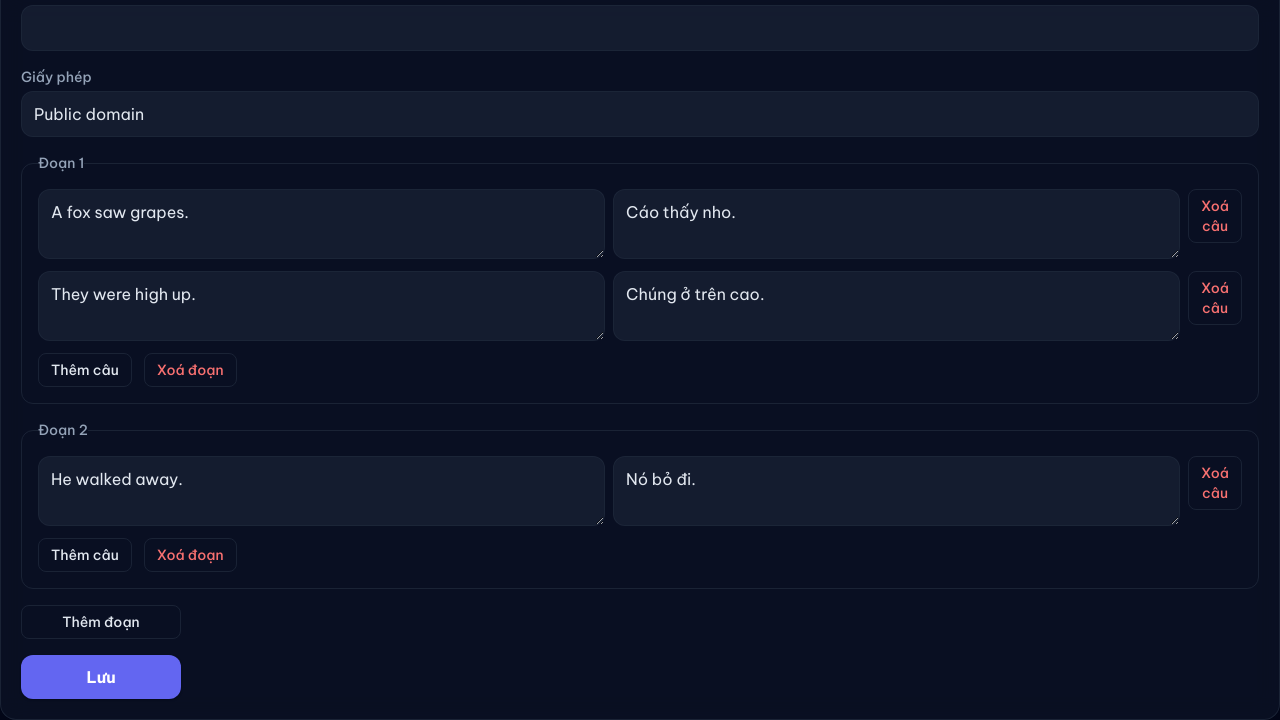
ReadingEditForm › thêm và xoá đoạn
The image size is (1280, 720).
(page scrolled)
What coordinates should you click on to do the following:
click the button "Thêm đoạn"
I would click on:
 (101, 622)
Its box is [21, 605, 181, 639].
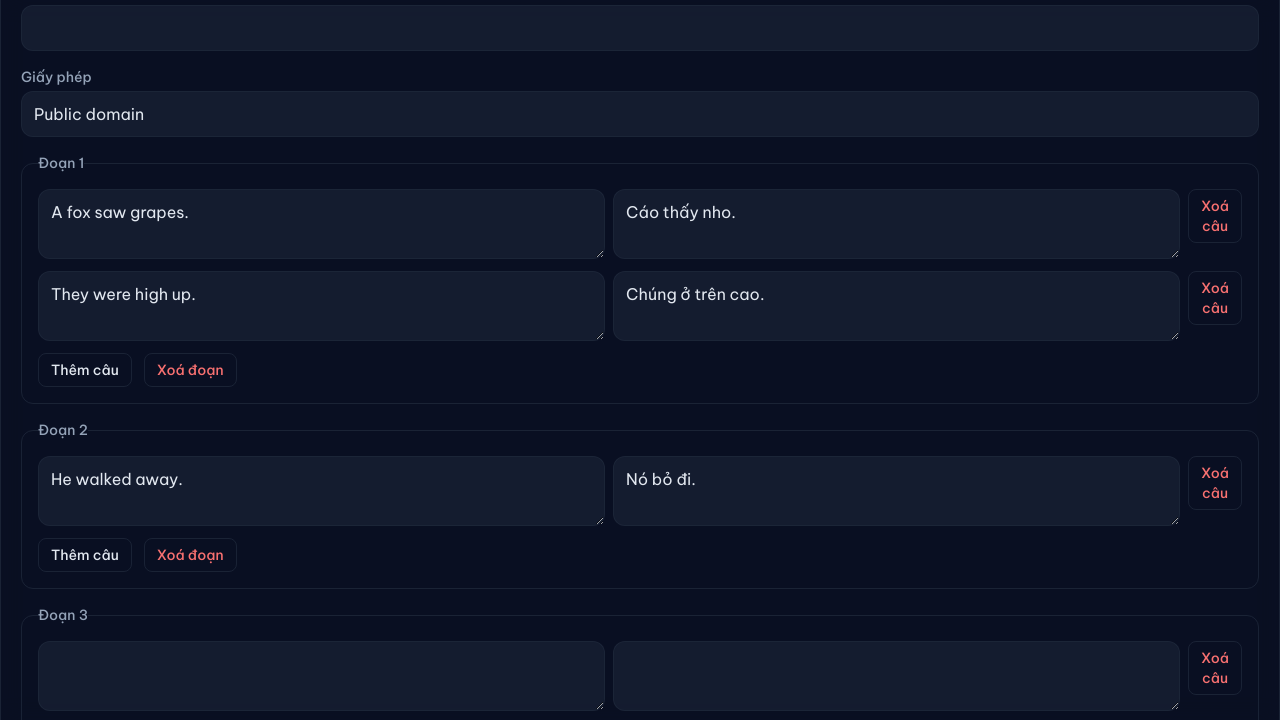
Expected: the text box named "Đoạn 3 câu 1 tiếng Anh" is empty, [38, 641, 605, 711]
What coordinates should you click on to do the following:
click the button with aria-label "Xoá đoạn 1"
I would click on:
 (190, 370)
Its box is [144, 353, 237, 387].
(page scrolled)
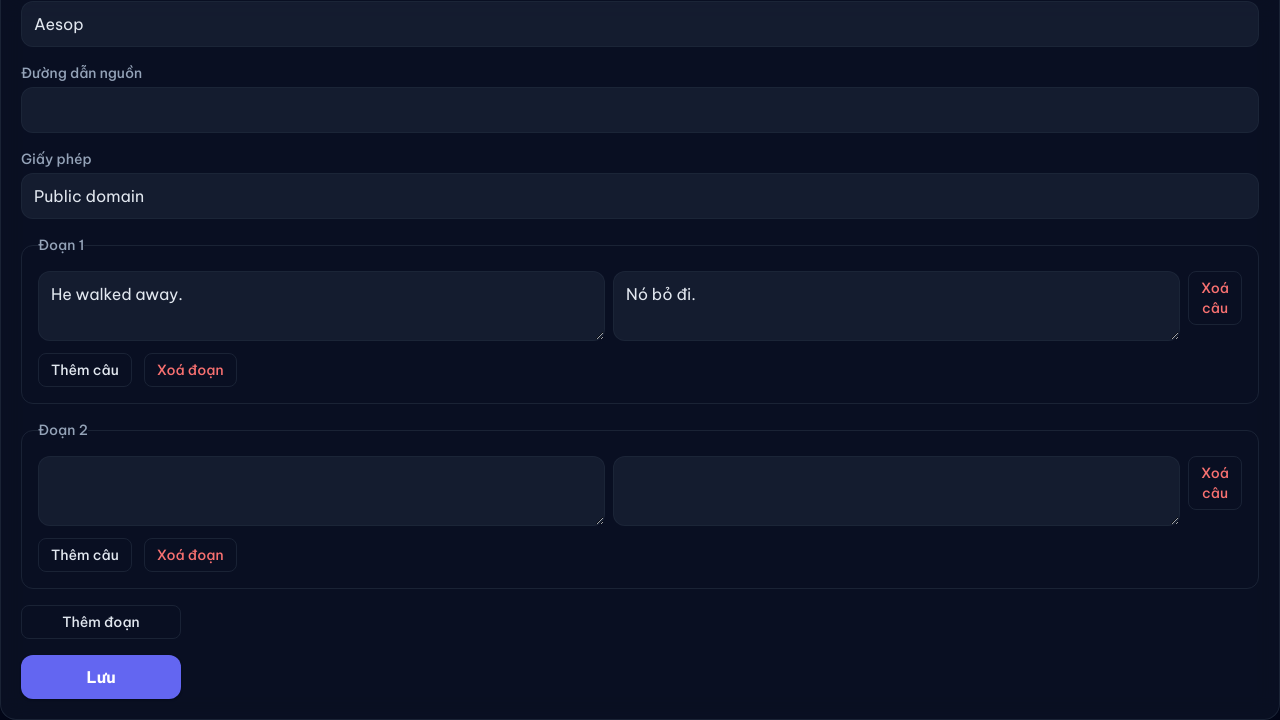
Expected: the text box named "Đoạn 1 câu 1 tiếng Anh" holds "He walked away.", [38, 271, 605, 341]
